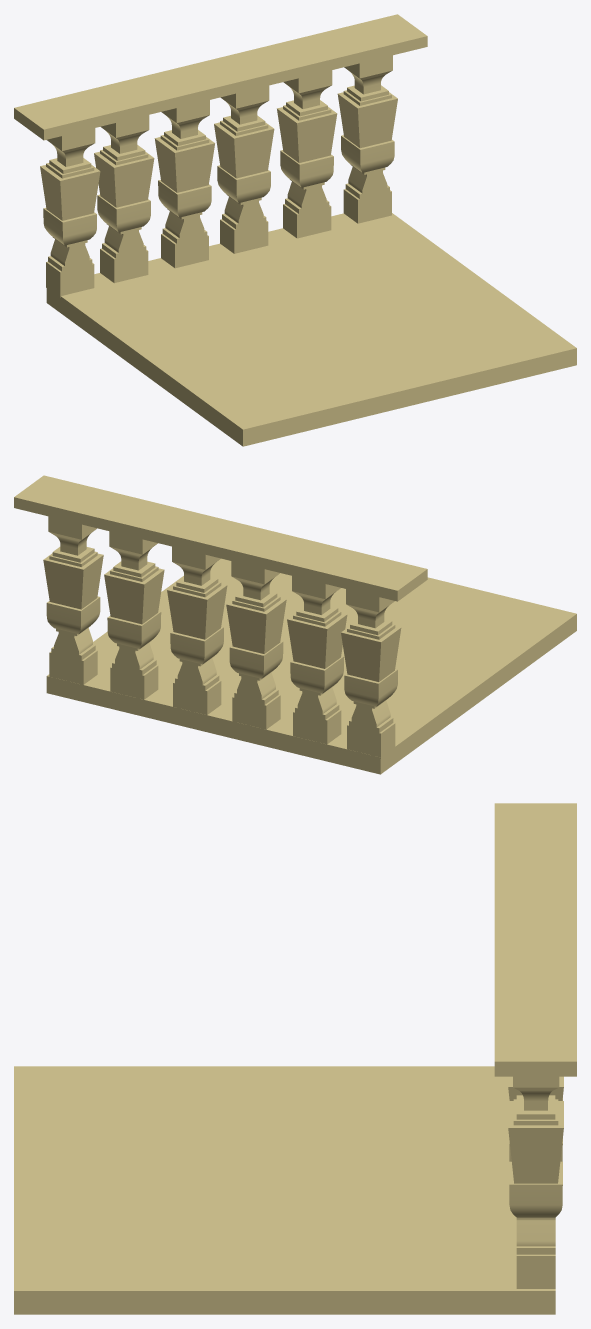
The model's file is Piattaforma_balcone_1_GGJ.fbx.
The picture shows the model from 3 angles, top to bottom: view 1: azimuth 30°, elevation 25°; view 2: azimuth 150°, elevation 25°; view 3: azimuth 270°, elevation 25°; orthographic projection. The views are drawn at different scales.
Visible parts, largest first — view 1: pCube9; view 2: pCube9; view 3: pCube9.
Part boxes in pixels (x1,y1,x2,y2): pCube9: [14, 14, 576, 446]; pCube9: [14, 475, 576, 774]; pCube9: [14, 803, 576, 1314].
Size of the model in its own units: 3.4 by 1.65 by 3.13.
